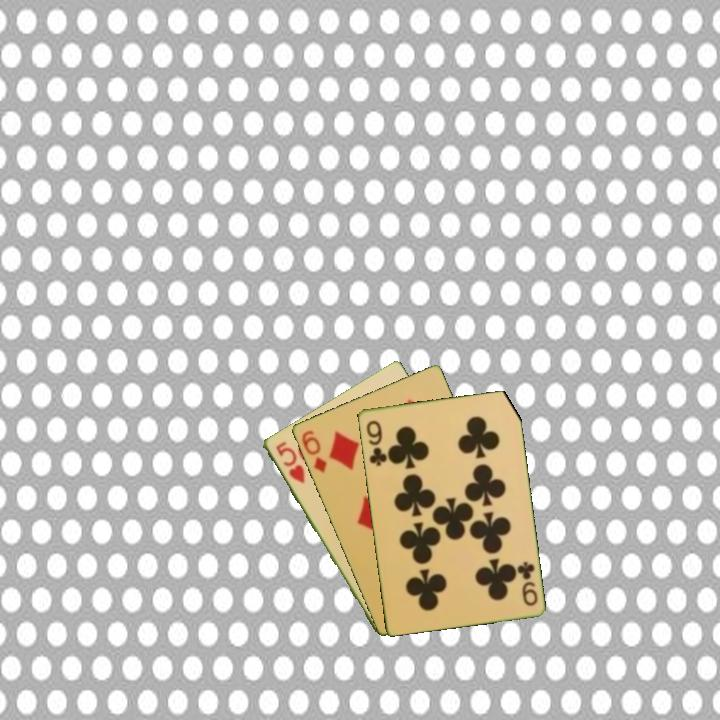5h: (272, 438, 307, 486)
6d: (298, 426, 329, 476)
9c: (362, 417, 389, 469), (513, 558, 540, 608)
